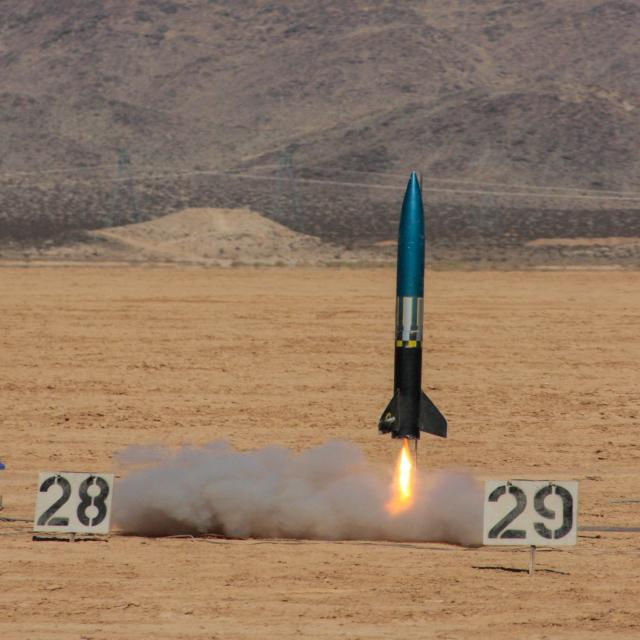Rocket: (376, 170, 449, 441)
